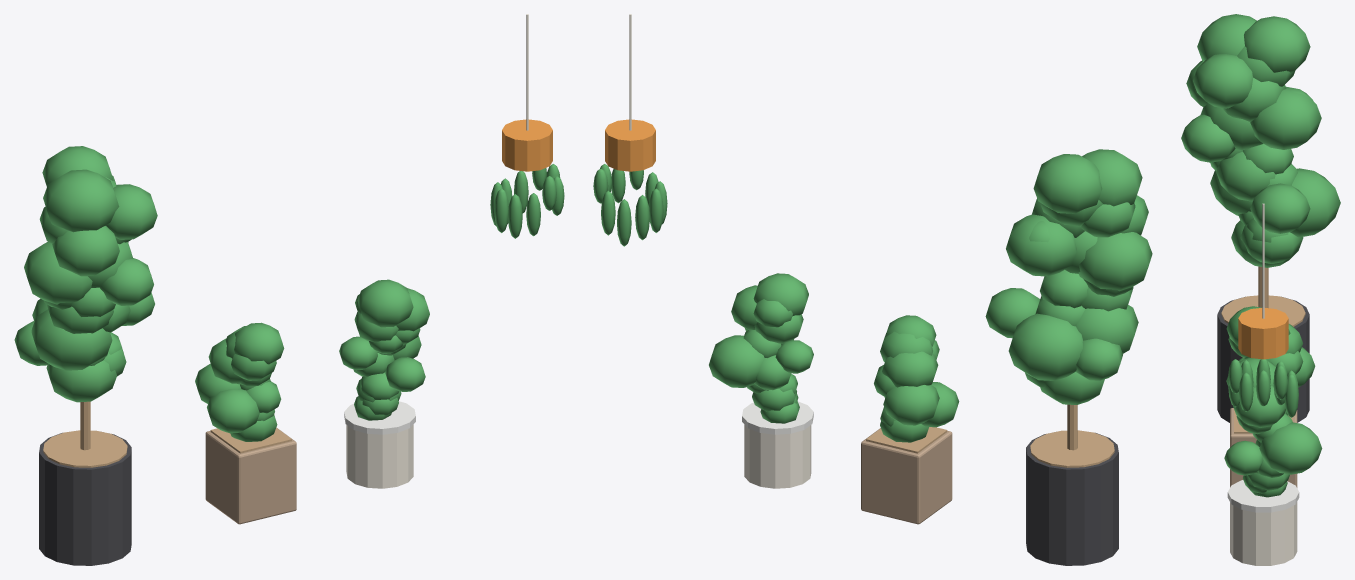
File: plants_potted.glb
3 renders of one model, left to right at view 1: azimuth 30°, elevation 25°; view 2: azimuth 150°, elevation 25°; view 3: azimuth 270°, elevation 25°, orthographic.
Parts seen in each view (by area): view 1: plant_floor_large, plant_small_box, plant_medium_pot, plant_hanging; view 2: plant_floor_large, plant_medium_pot, plant_small_box, plant_hanging; view 3: plant_floor_large, plant_medium_pot, plant_hanging, plant_small_box.
Boxes of the visible parts, left/top/right/bottom form: plant_floor_large: left=14, top=146, right=157, bottom=565; plant_small_box: left=195, top=322, right=296, bottom=524; plant_medium_pot: left=339, top=279, right=429, bottom=488; plant_hanging: left=490, top=14, right=564, bottom=238; plant_floor_large: left=985, top=149, right=1152, bottom=565; plant_medium_pot: left=709, top=273, right=813, bottom=488; plant_small_box: left=861, top=315, right=959, bottom=524; plant_hanging: left=593, top=14, right=667, bottom=246; plant_floor_large: left=1181, top=14, right=1340, bottom=422; plant_medium_pot: left=1224, top=358, right=1322, bottom=565; plant_hanging: left=1228, top=203, right=1298, bottom=417; plant_small_box: left=1226, top=306, right=1315, bottom=487.
Bounding box in the file's own units: 2.93 × 2.2 × 0.7598.
